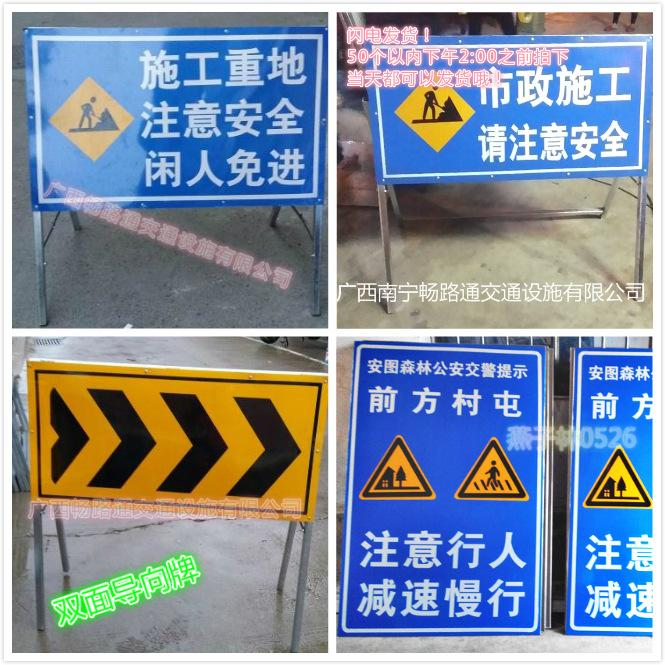sign: (24, 28, 321, 324), (22, 357, 315, 638), (358, 40, 647, 319), (354, 342, 547, 628)
